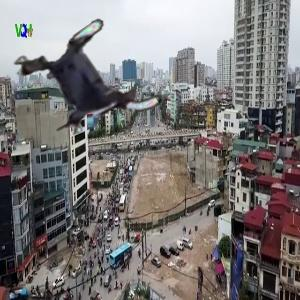drone: (22, 16, 156, 150)
